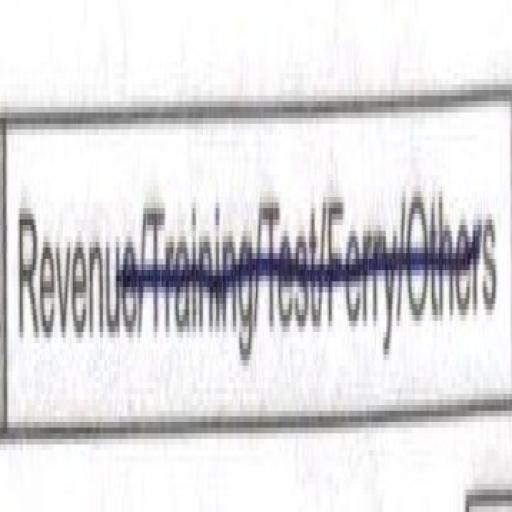check: (0, 37, 140, 495)
